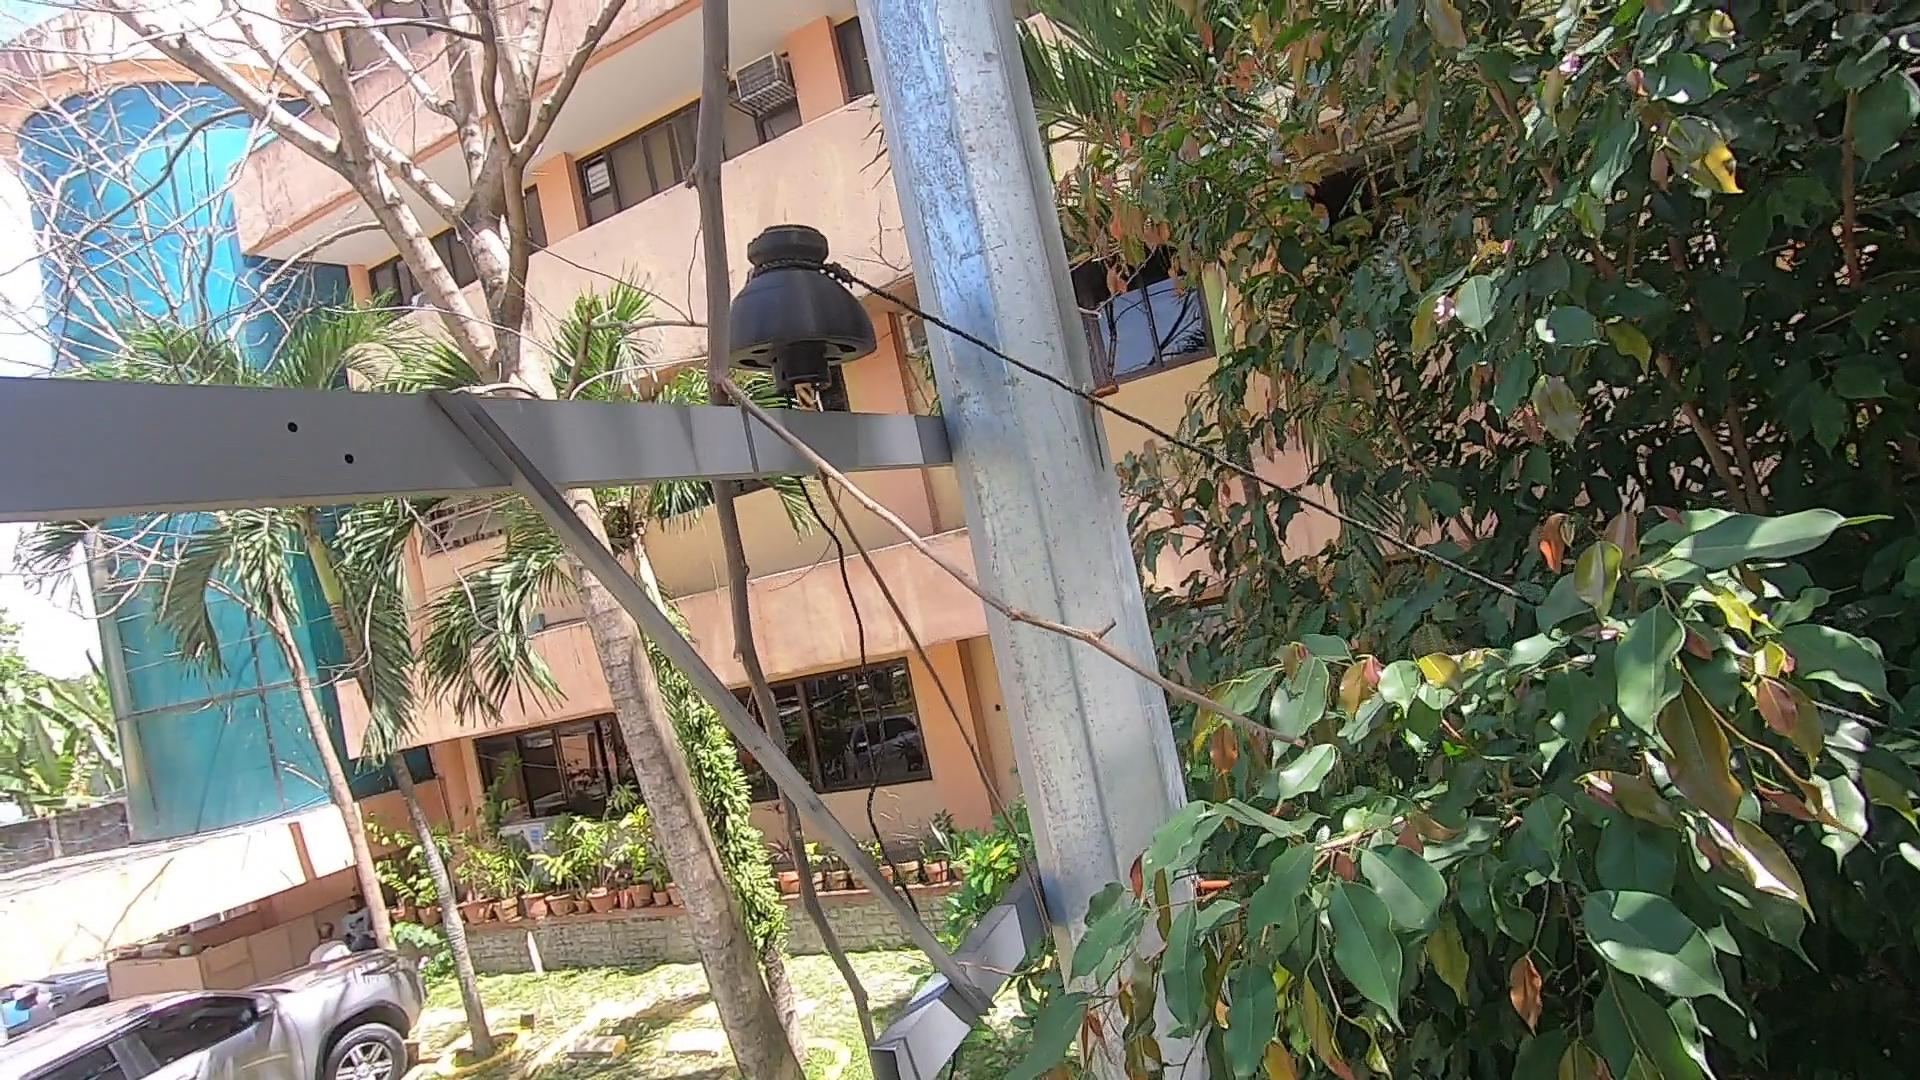tree branch: (636, 3, 934, 1080)
